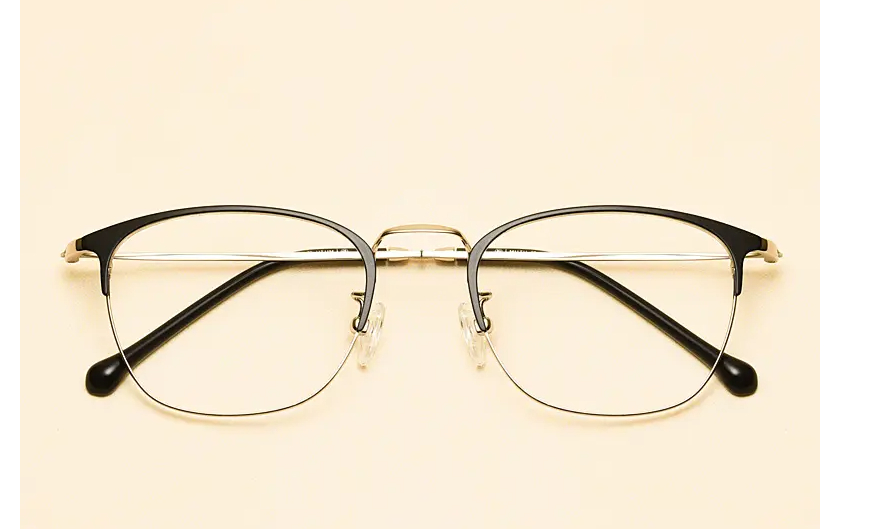glass: (51, 169, 787, 453)
